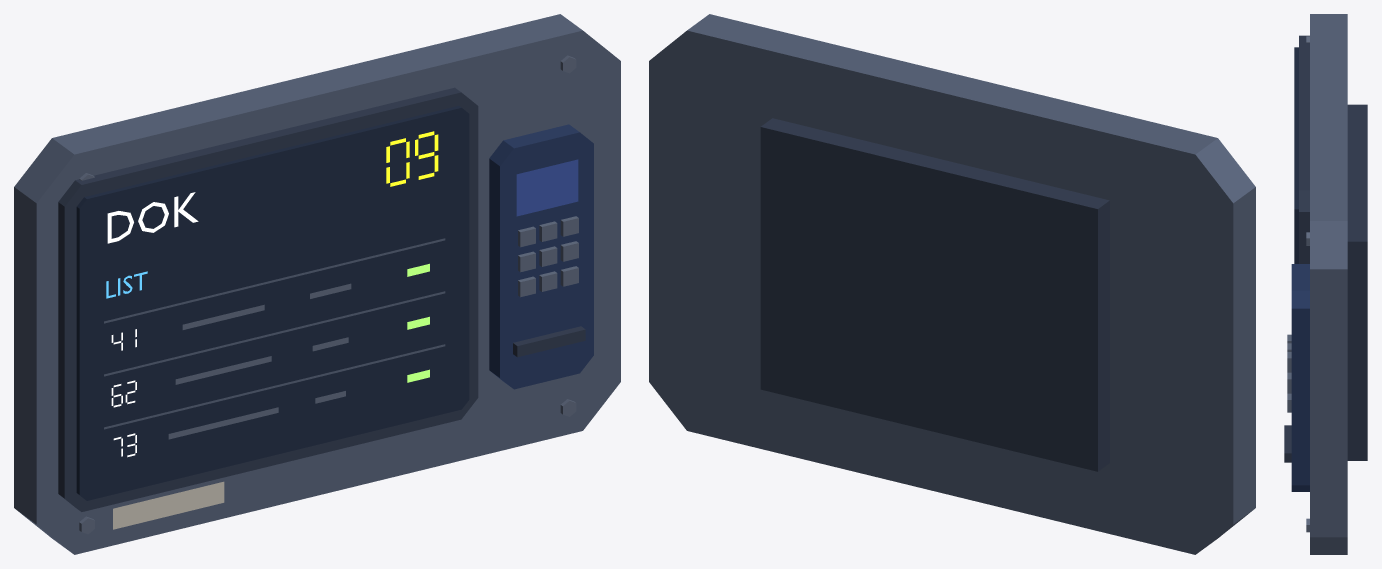
File: wh_wall_terminal.glb
3 views of the same model, side by side, from view 1: azimuth 30°, elevation 25°; view 2: azimuth 150°, elevation 25°; view 3: azimuth 270°, elevation 25° (orthographic). The views are drawn at different scales.
Visible parts, largest first — view 1: manifest_glass, back_shell, card_slot, scanner_bezel, key, reader, asset_tag, digit.012, digit; view 2: back_shell, card_slot; view 3: back_shell, card_slot, scanner_bezel, manifest_glass, key.
Part boxes in pixels (x1,y1,x2,y2): manifest_glass: [76, 105, 469, 500]; back_shell: [14, 14, 620, 554]; card_slot: [58, 87, 585, 511]; scanner_bezel: [489, 124, 593, 389]; key: [79, 55, 578, 534]; reader: [516, 159, 578, 216]; asset_tag: [113, 481, 224, 529]; digit.012: [107, 192, 198, 457]; digit: [386, 131, 438, 186]; back_shell: [649, 14, 1255, 554]; card_slot: [760, 118, 1109, 471]; back_shell: [1310, 14, 1347, 554]; card_slot: [1284, 35, 1367, 462]; scanner_bezel: [1291, 264, 1309, 491]; manifest_glass: [1294, 47, 1298, 263]; key: [1287, 36, 1309, 532].
Bounding box in the file's own units: 1.42 × 0.93 × 0.2105.
